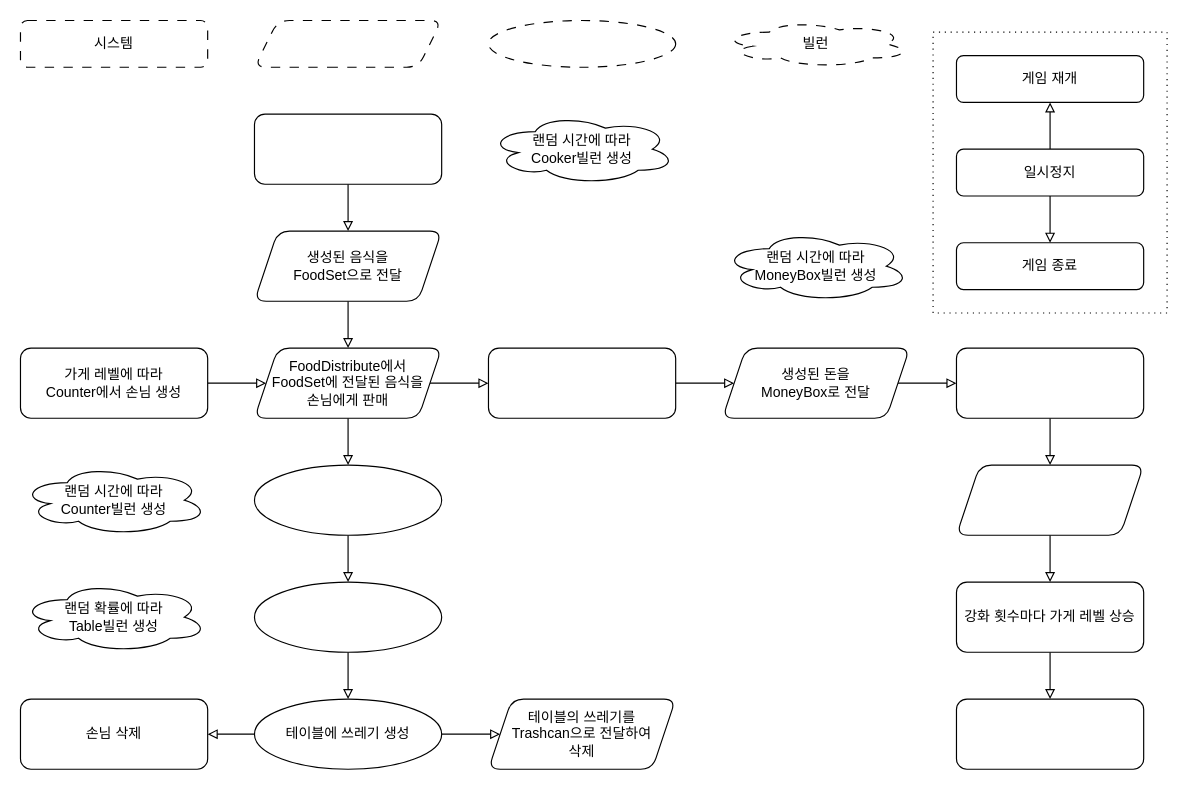
This 1188x790 diagram has some shape labels left out. The centre of each missing label's shape, as x and y in pixels:
"Cooker에서 음식 생성" goes at (347,148).
"가게 재정에 전달된 돈이 반환" goes at (1049,382).
"가게 재정으로 강화PopUp에서 강화" goes at (1049,499).
"레벨에 따라 생성되는 손님 종류 변경" goes at (1049,733).
"손님" goes at (581,43).
"음식 섭취" goes at (347,616).
"준비된 테이블로 이동" goes at (347,499).
"판매 음식 수량만큼 돈 생성" goes at (581,382).
"플레이어" goes at (347,43).
